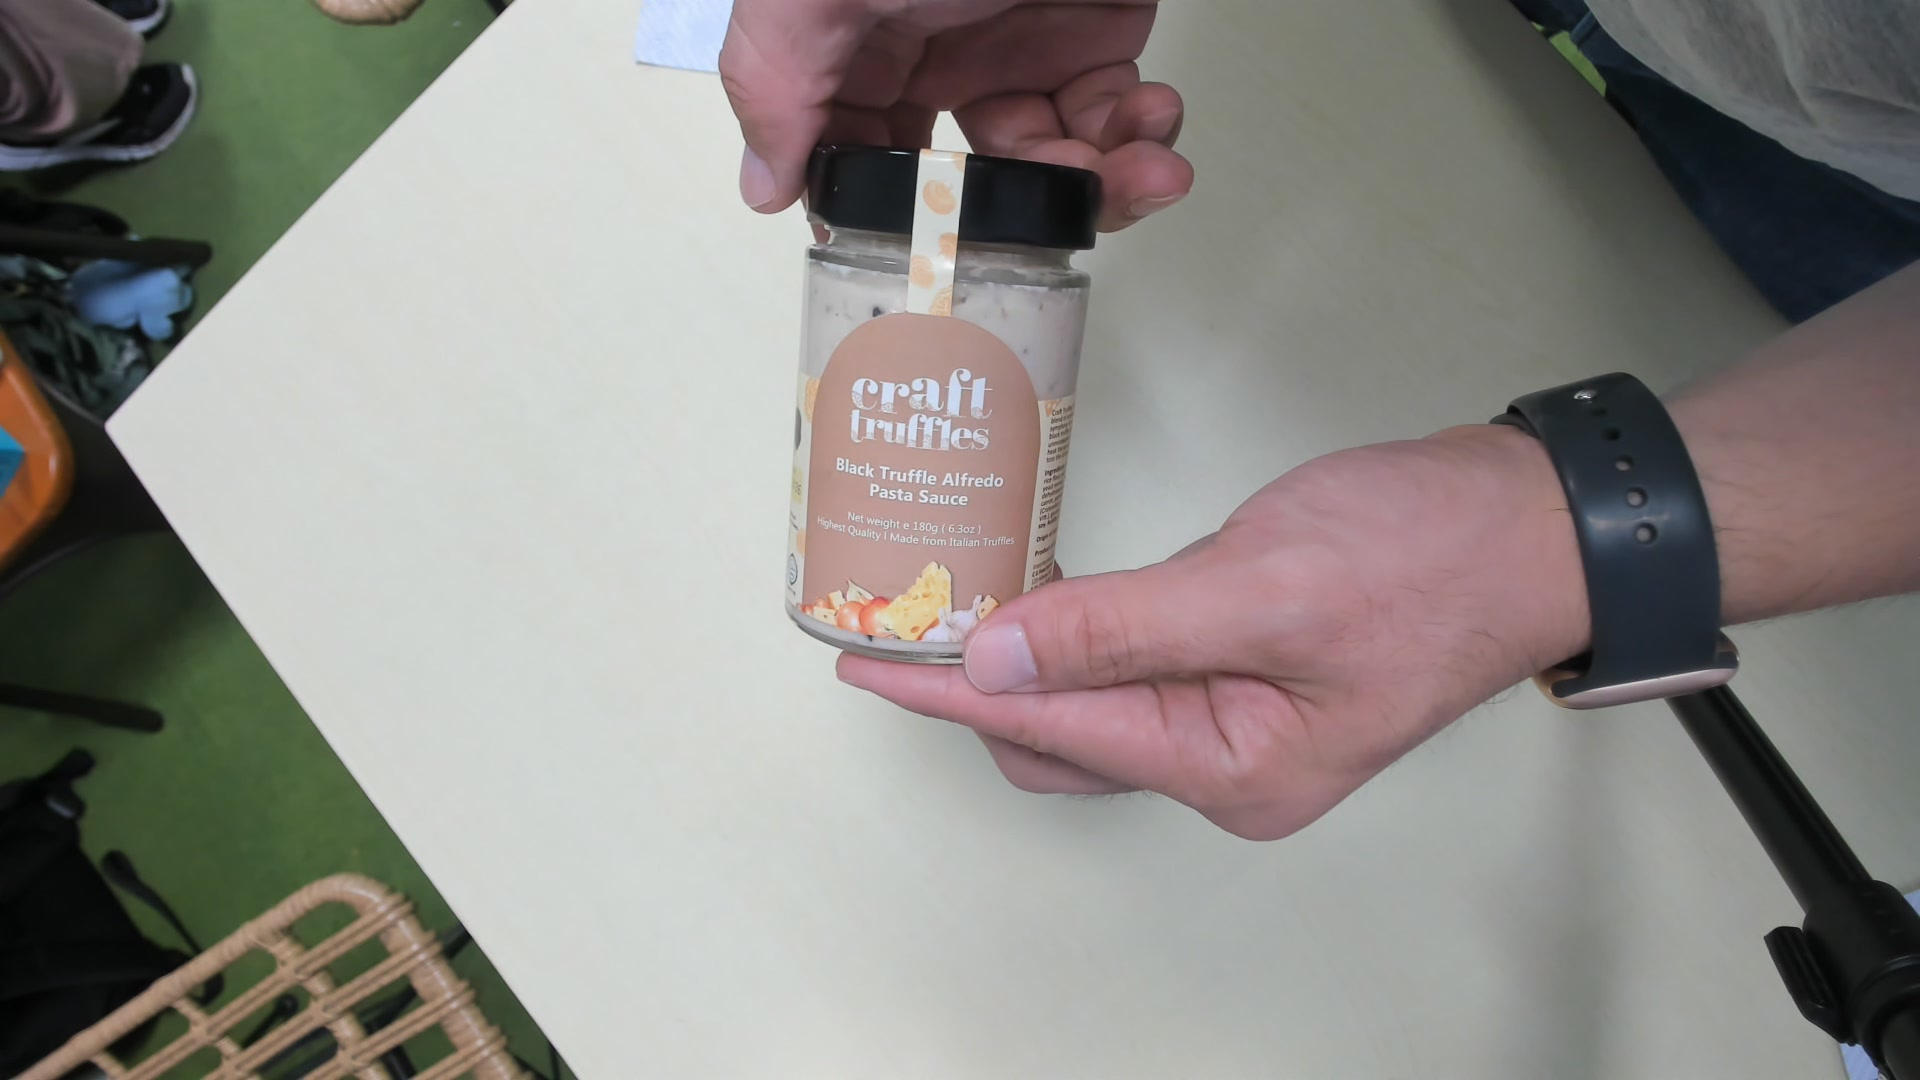PastaSauce_100-199g_Halal_NonHealthy: (785, 153, 1088, 671)
